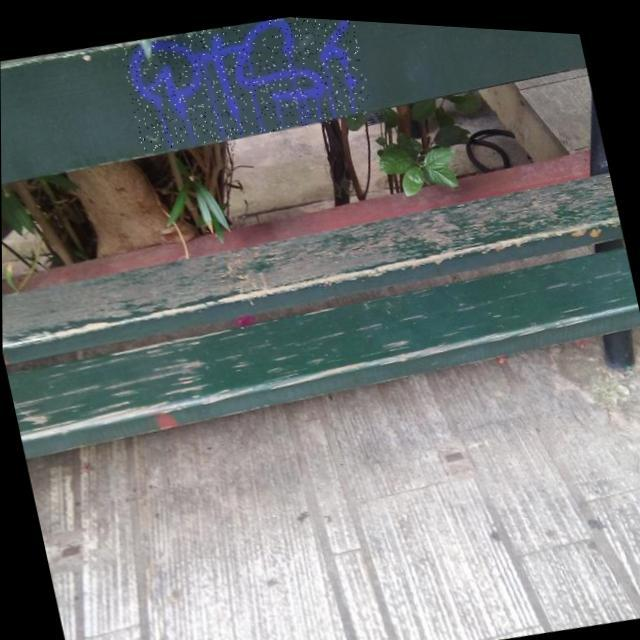-: (118, 6, 374, 160)
